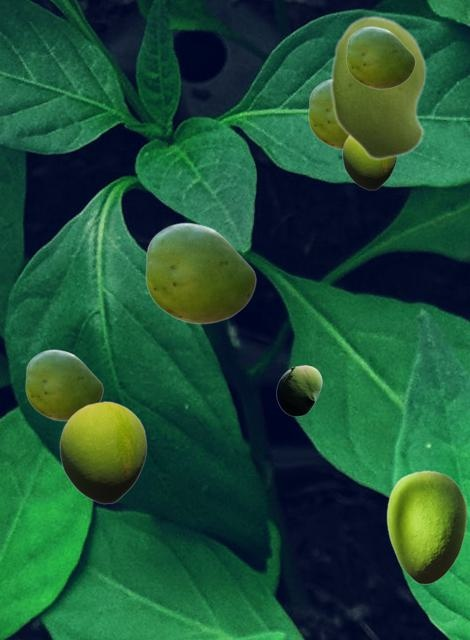green_mango: (330, 15, 426, 160), (145, 222, 255, 323), (386, 470, 466, 583), (59, 401, 146, 503), (25, 349, 102, 420), (346, 26, 414, 88), (342, 137, 396, 189), (308, 79, 346, 149), (276, 365, 321, 415)
